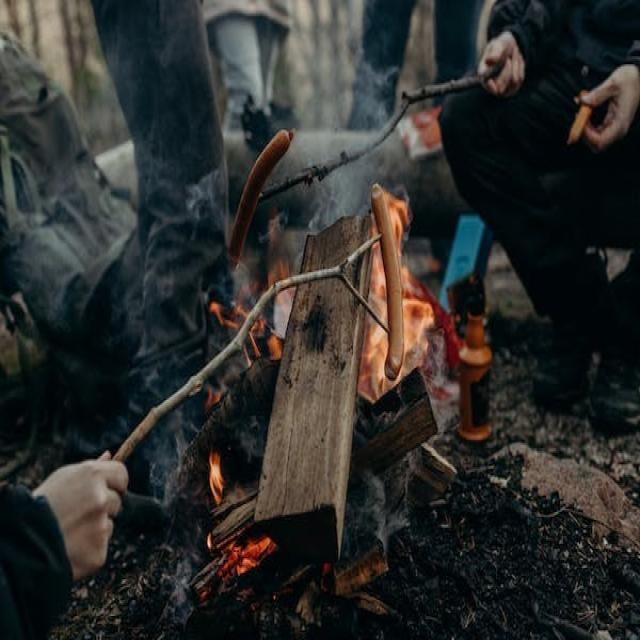Fire: (199, 256, 297, 406), (366, 190, 434, 394), (206, 530, 274, 574), (207, 452, 224, 502)
Smoke: (294, 37, 368, 221)
